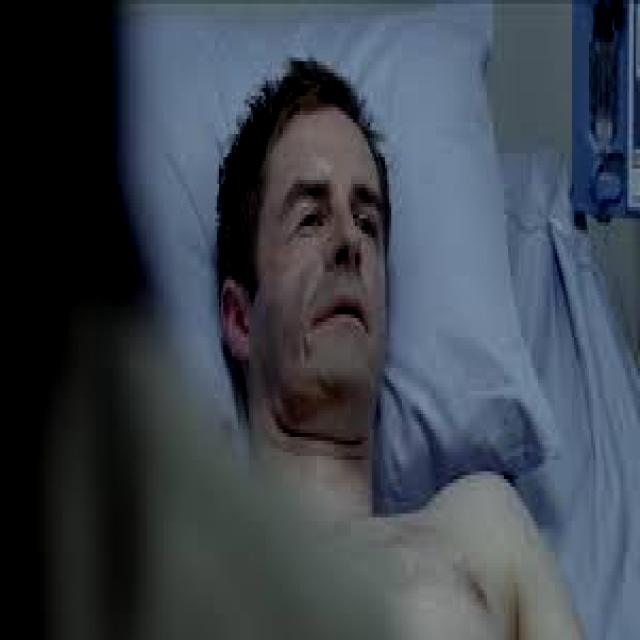normal_face: (244, 94, 378, 438)
